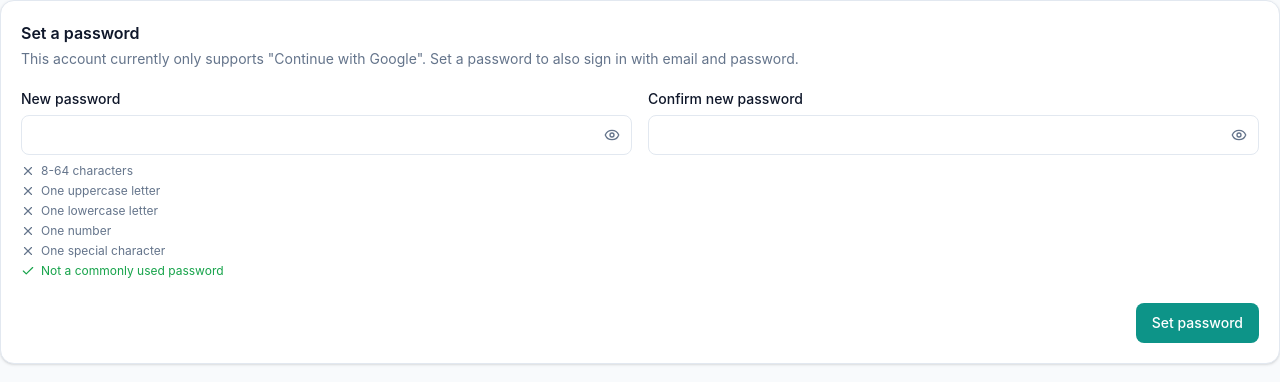
Test: SetPasswordCard — Google-only account (hasPassword: false) › blocks submission when new and confirm passwords do not match
Type "Brandnewpass1!" into the password field labelled "New password".
click(326, 135); type("Brandnewpass1!")  # box [21,115,632,155]
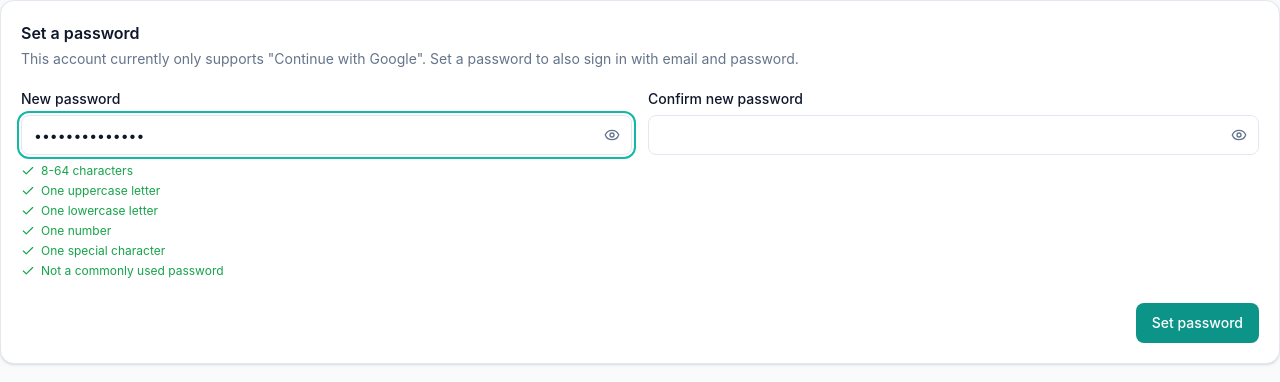
Type "somethingelse1" into the password field labelled "Confirm new password".
click(954, 135); type("somethingelse1")  # box [648,115,1259,155]
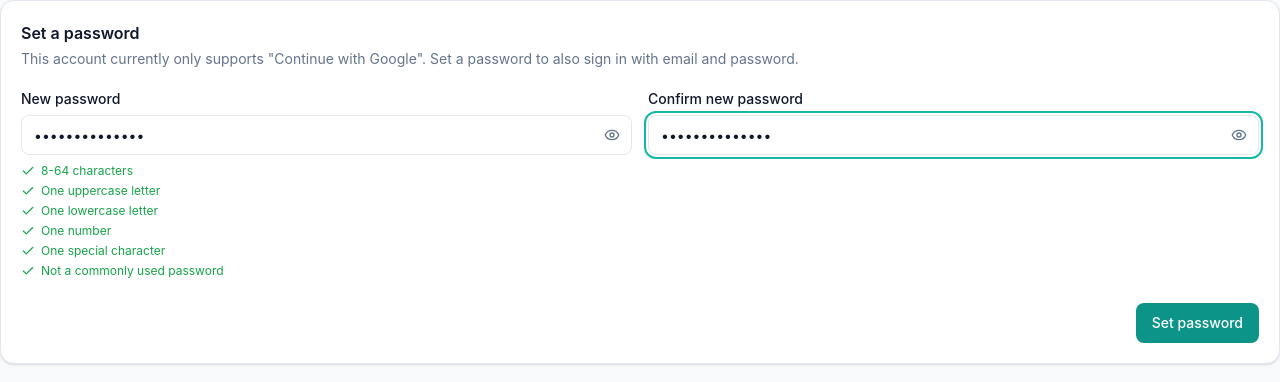
Click the button "Set password".
click(1197, 323)  # box [1136,303,1259,343]
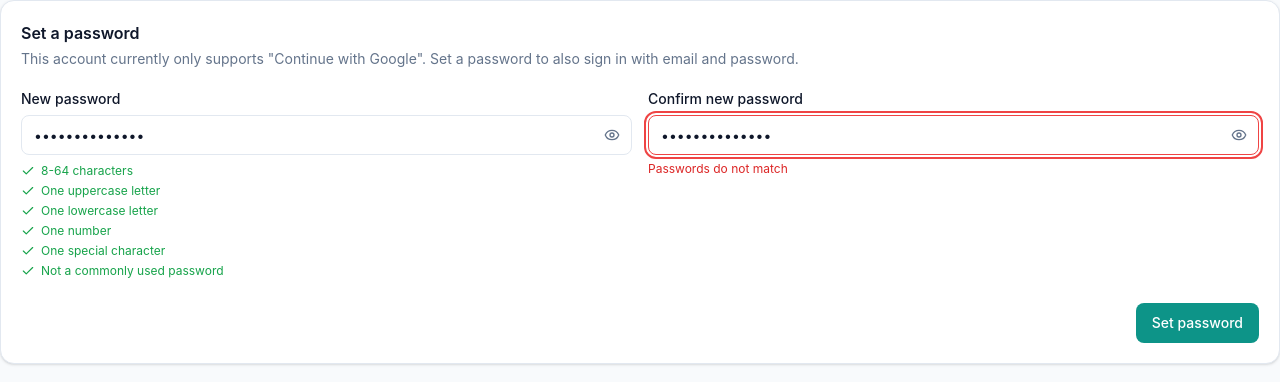
Expected: the text "Passwords do not match" is shown, [648,161,788,176]
